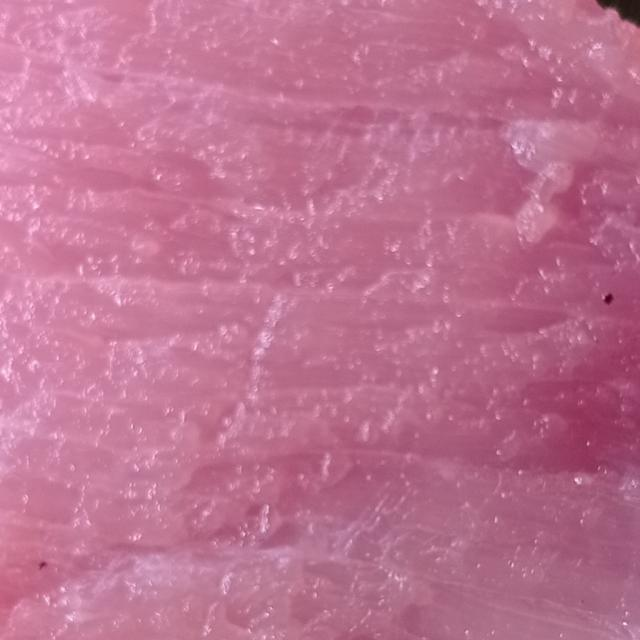pork: (2, 1, 640, 640)
